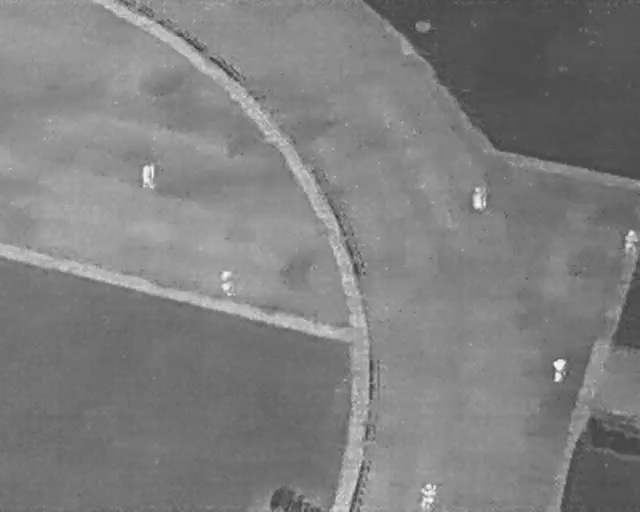Person: (420, 480, 438, 511), (218, 267, 235, 299), (551, 355, 569, 383), (622, 228, 639, 254), (471, 184, 487, 210), (140, 163, 154, 188)
